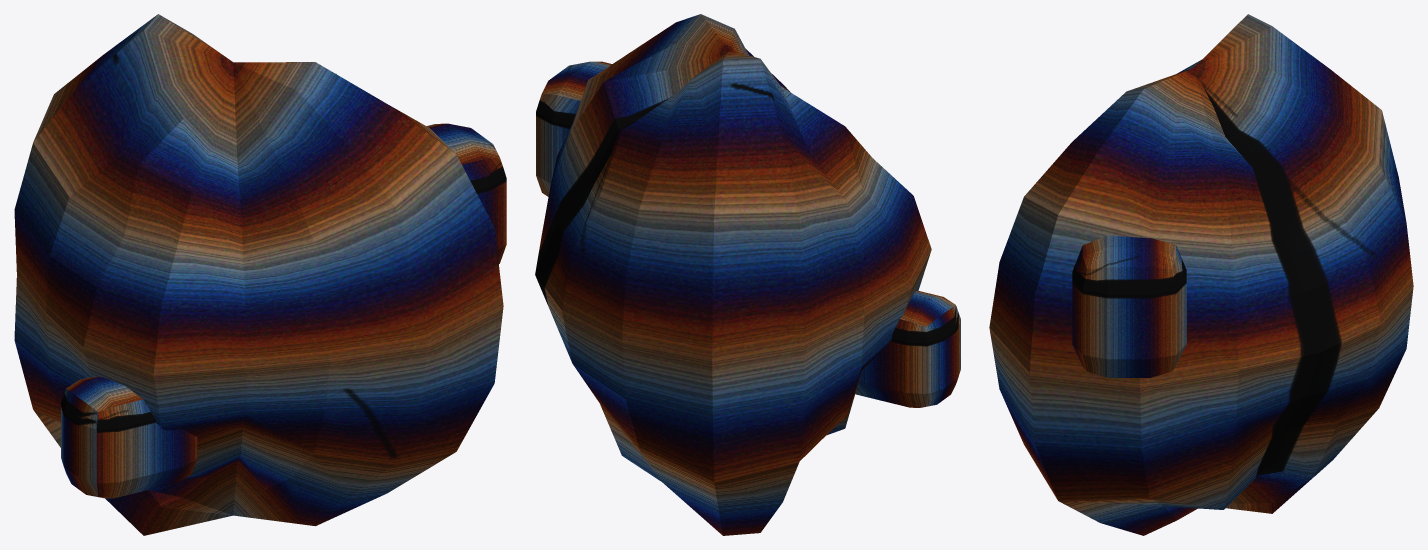
Rendered from rock_boulder.glb.
3 renders of one model, left to right at view 1: azimuth 30°, elevation 25°; view 2: azimuth 150°, elevation 25°; view 3: azimuth 270°, elevation 25°, orthographic. The views are drawn at different scales.
Visible parts, largest first — view 1: BoulderMain, BoulderChunkB, BoulderChunkA; view 2: BoulderMain, BoulderChunkB, BoulderChunkA; view 3: BoulderMain, BoulderChunkA.
Boxes of the visible parts, box(x1,y1,x2,y2) form: BoulderMain: box(14, 14, 503, 535); BoulderChunkB: box(61, 377, 197, 498); BoulderChunkA: box(426, 123, 506, 263); BoulderMain: box(535, 14, 931, 535); BoulderChunkB: box(855, 290, 960, 407); BoulderChunkA: box(536, 61, 611, 196); BoulderMain: box(989, 14, 1413, 535); BoulderChunkA: box(1072, 235, 1186, 377).
Bounding box in the file's own units: 6.6 × 7.53 × 5.94.
Materials: 1 (1 with a texture image).
